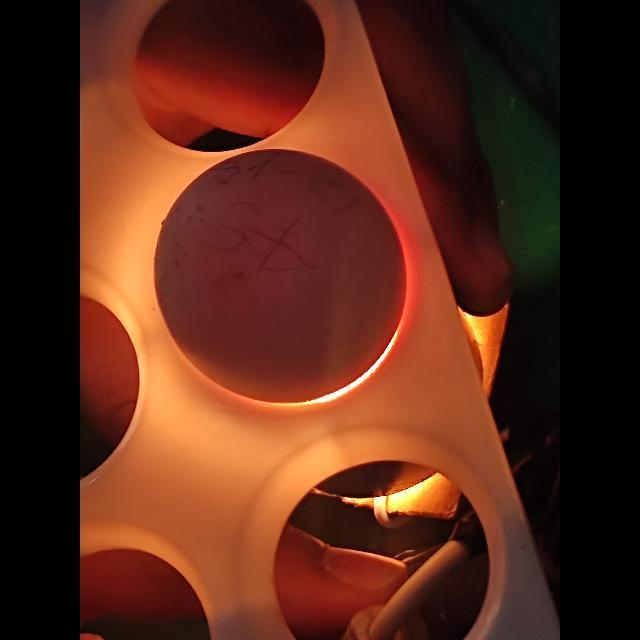A - Good: (150, 143, 410, 411)
